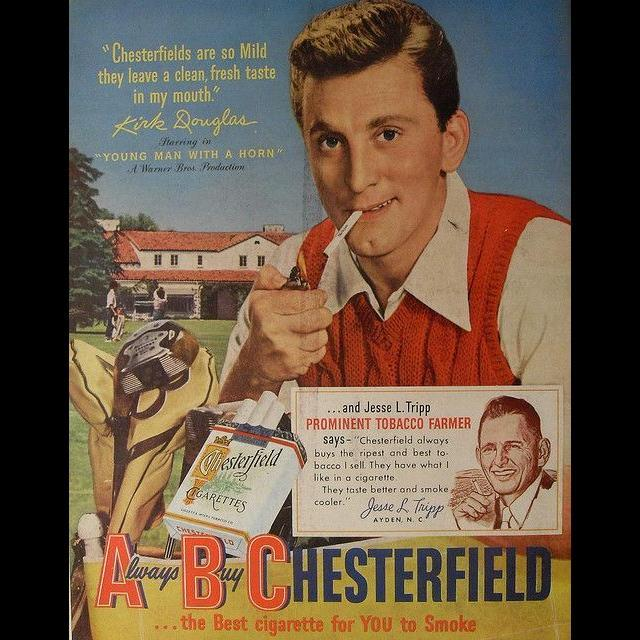rokok: (314, 208, 372, 264)
